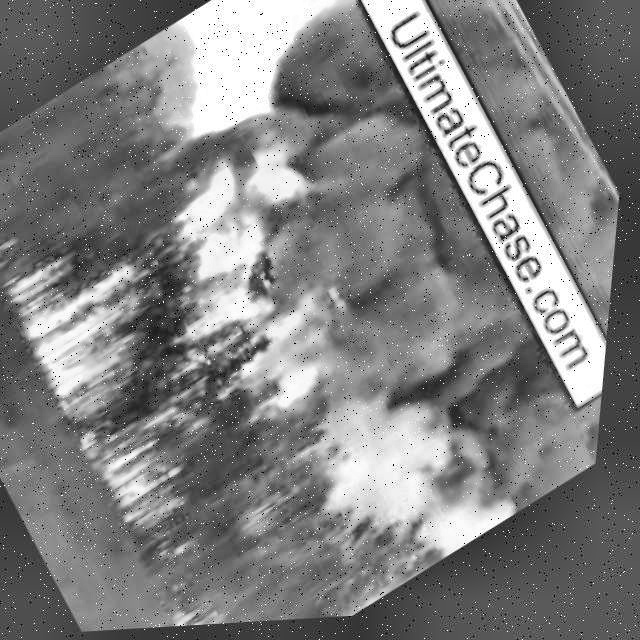Fire: (0, 112, 433, 553), (172, 589, 249, 630)
Smoke: (206, 0, 640, 550), (371, 0, 640, 448), (303, 382, 512, 606)
